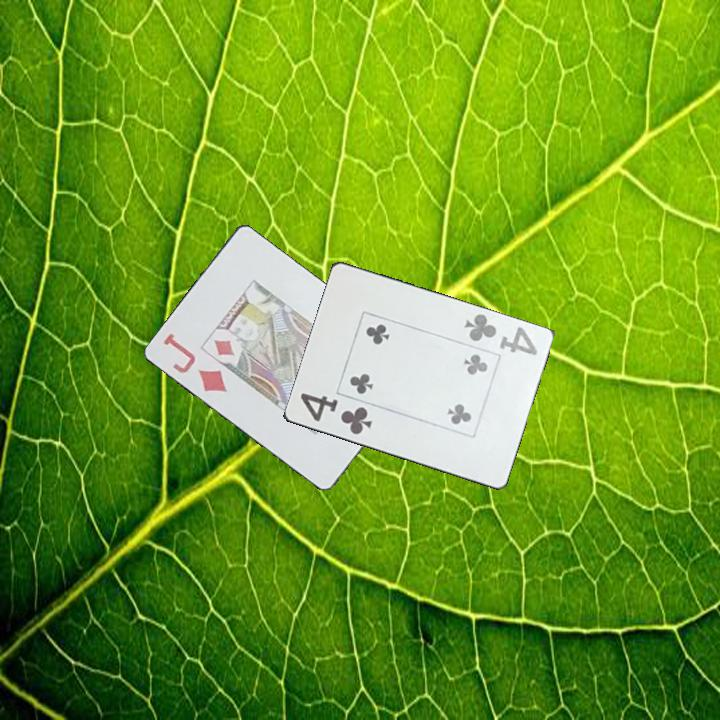4c: (296, 389, 375, 438), (460, 310, 540, 358)
Jd: (160, 329, 231, 395)
